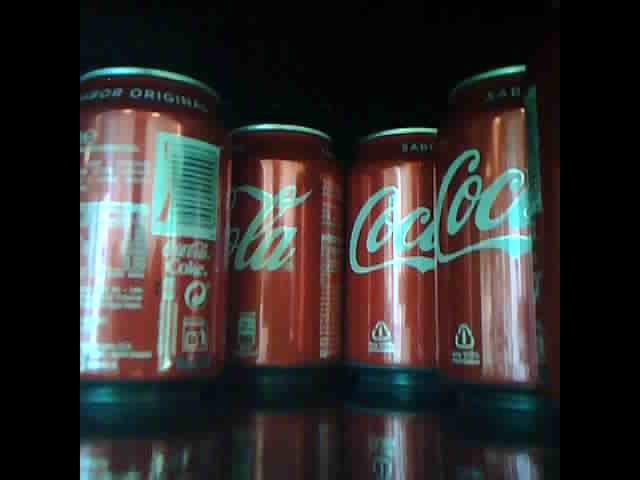coca cola: (80, 67, 228, 403), (444, 64, 557, 397), (231, 115, 341, 375), (341, 116, 437, 384)
